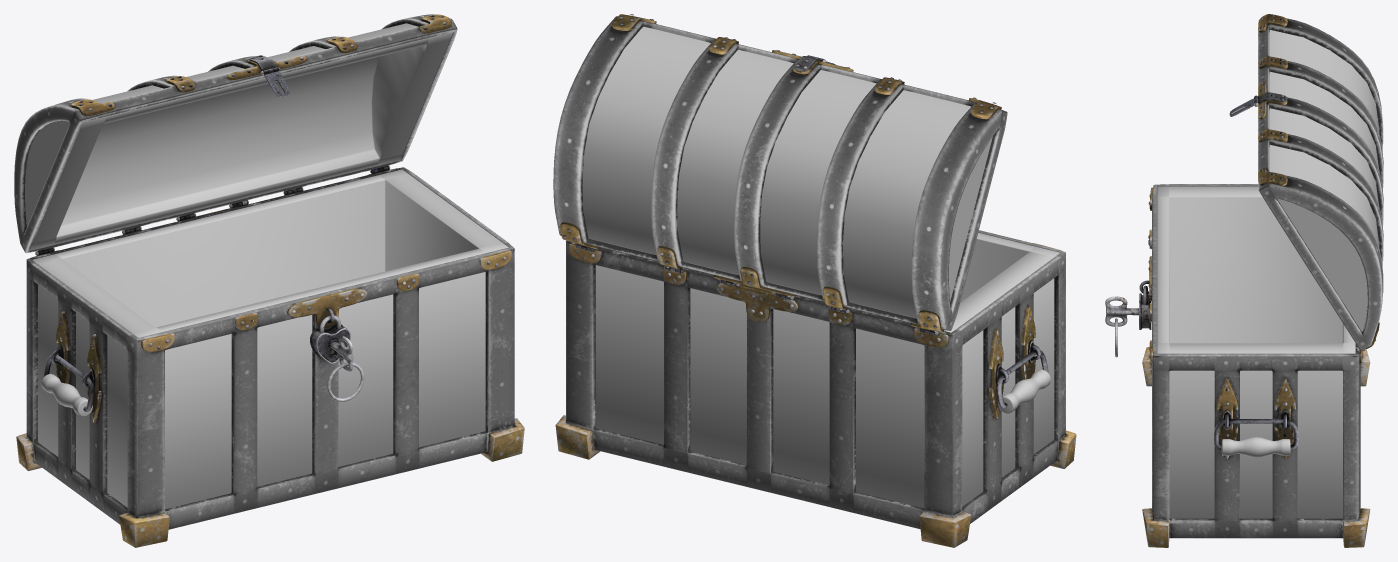
File: chest.obj
3 views of the same model, side by side, from view 1: azimuth 30°, elevation 25°; view 2: azimuth 150°, elevation 25°; view 3: azimuth 270°, elevation 25° (orthographic). The views are drawn at different scales.
Parts seen in each view (by area): view 1: Wood_Material, Metal_Material; view 2: Wood_Material, Metal_Material; view 3: Wood_Material, Metal_Material.
Part boxes in pixels (bbox=[...]): Wood_Material: bbox=[25, 23, 508, 509]; Metal_Material: bbox=[14, 14, 524, 547]; Wood_Material: bbox=[582, 26, 1059, 508]; Metal_Material: bbox=[553, 14, 1076, 547]; Wood_Material: bbox=[1157, 30, 1379, 518]; Metal_Material: bbox=[1105, 14, 1383, 547].
Bounding box in the file's own units: 138 × 122 × 84.13.
